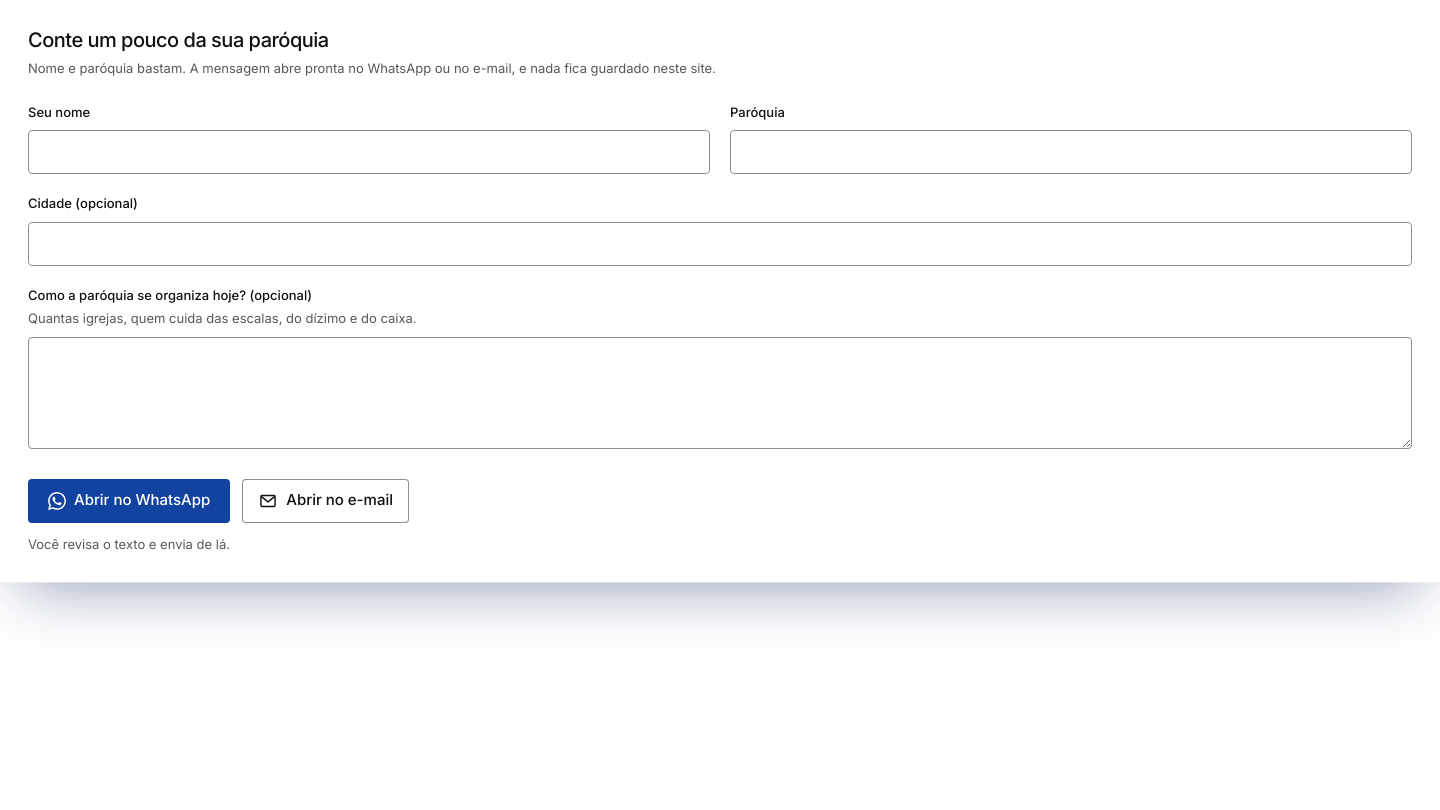
FormularioConversa › abre o WhatsApp com a mensagem pronta e diz o que falta
Type "Lúcia" into the field labelled "Seu nome". click: {"x": 369, "y": 152}
box: [28,130,710,174]
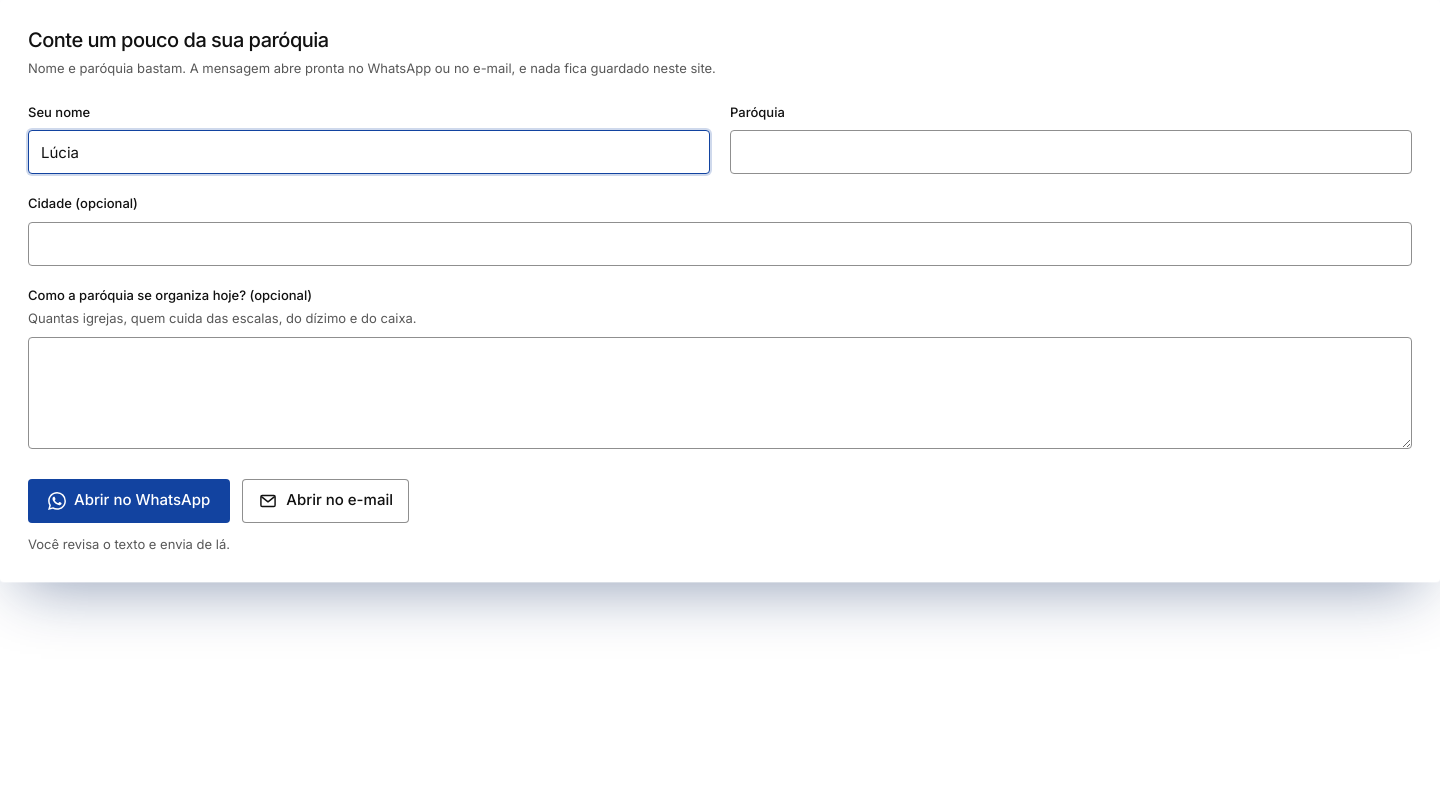
Type "São Bento" into the field labelled "Paróquia". click: {"x": 1071, "y": 152}
box: [730,130,1412,174]
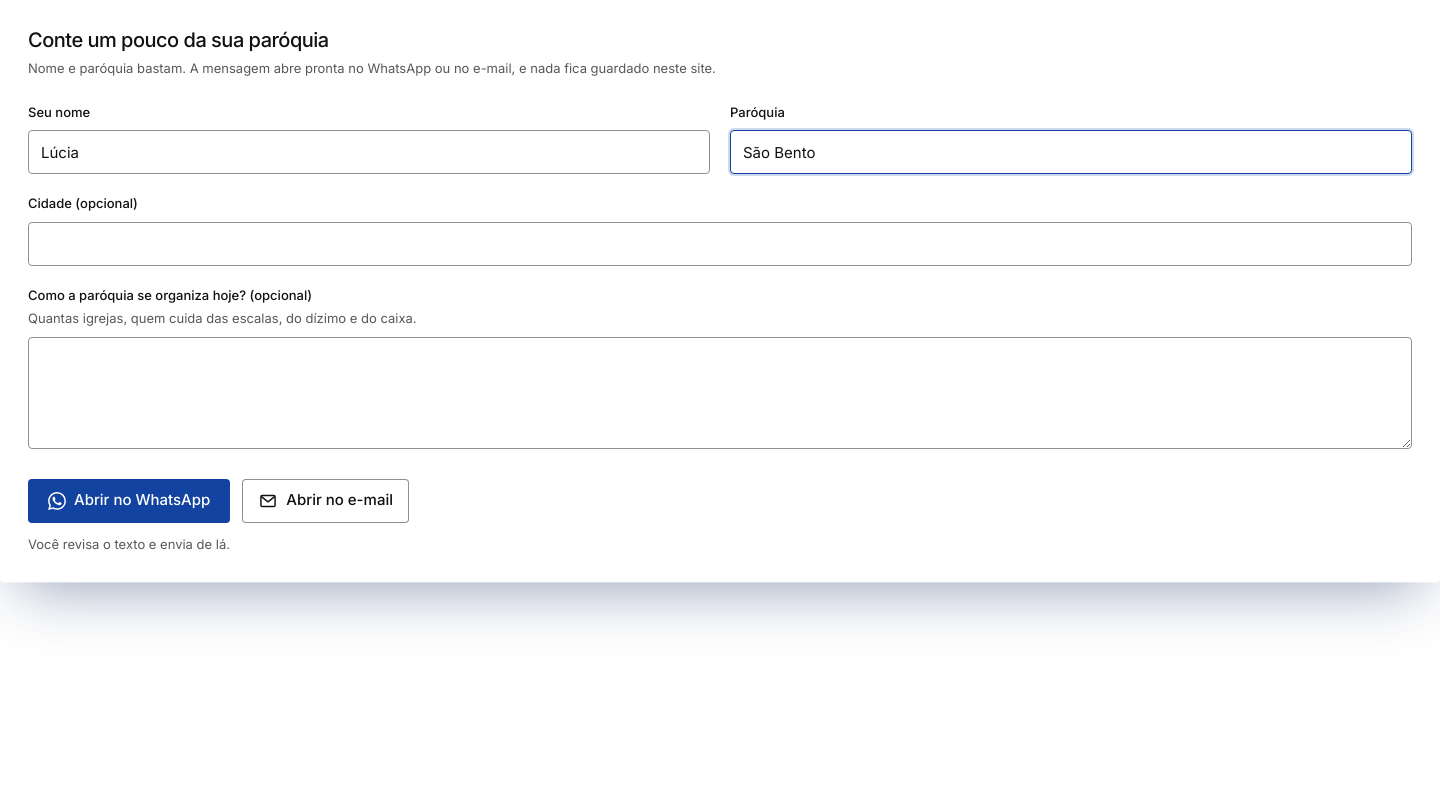
Click the button "Abrir no WhatsApp". click: {"x": 129, "y": 500}
box: [28,478,230,522]
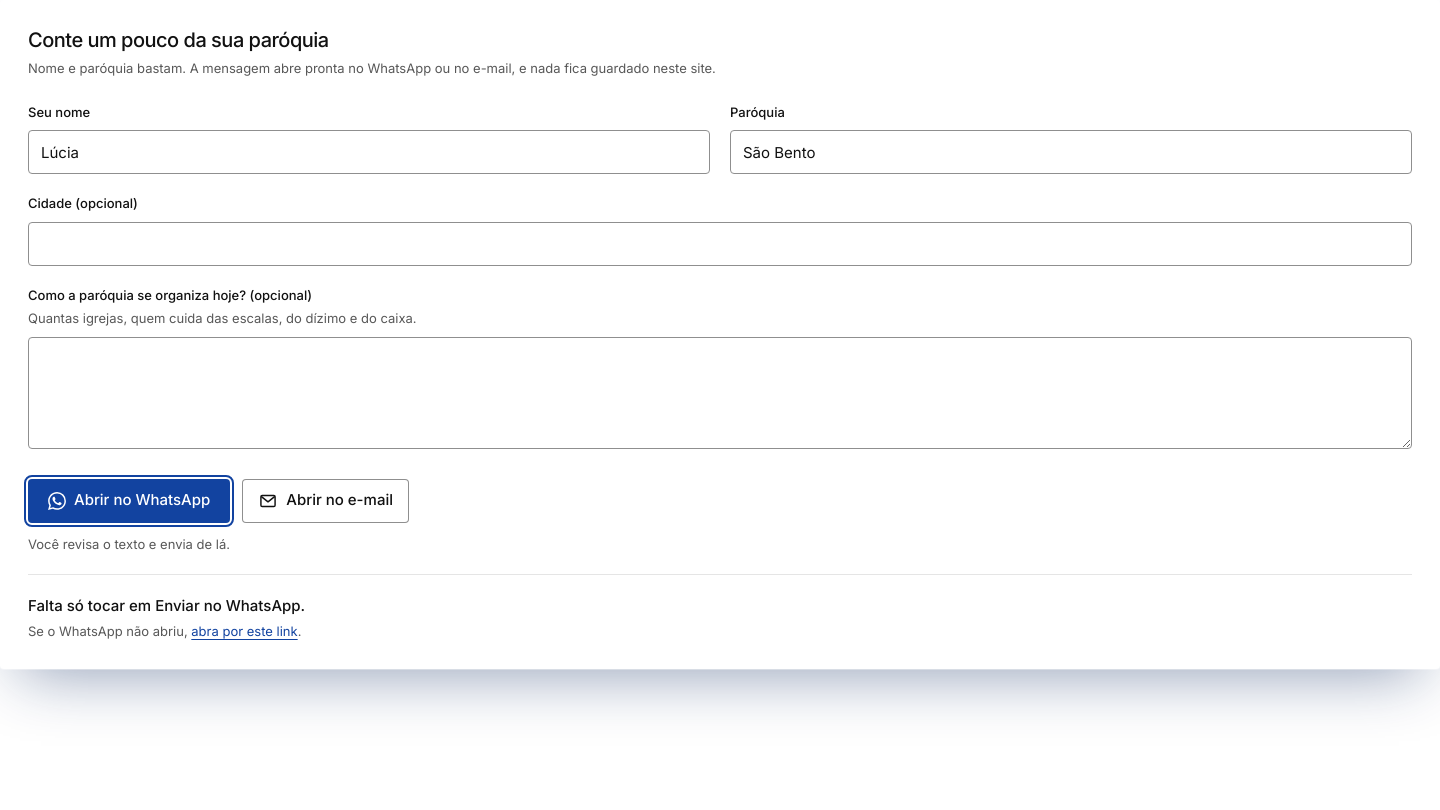
Expected: the text "Falta só tocar em Enviar no WhatsApp." is shown, [28,596,305,615]
